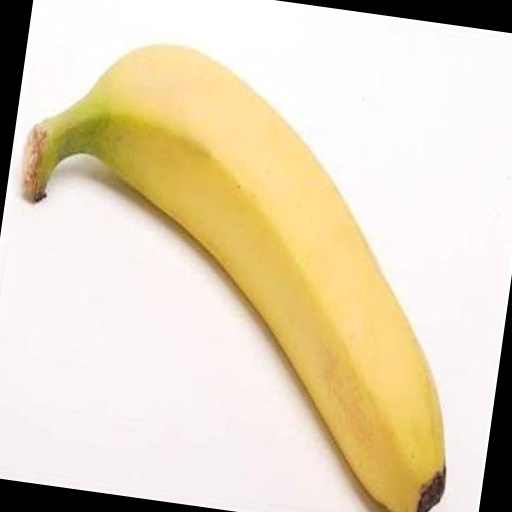fruit: (0, 55, 47, 275)
